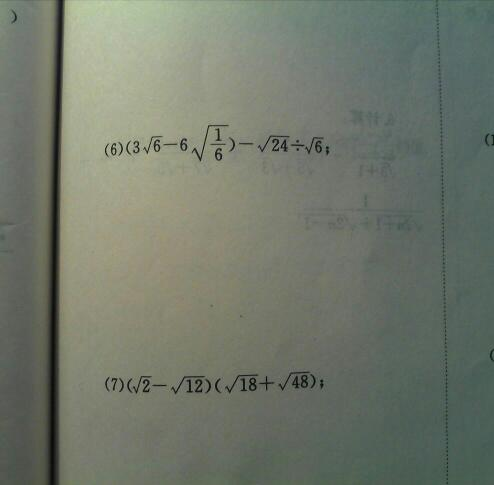division: (208, 140, 228, 150)
sqrt: (191, 121, 235, 164), (223, 373, 263, 396), (277, 370, 310, 395), (169, 373, 204, 396), (257, 133, 290, 156), (305, 132, 323, 162), (144, 133, 167, 155), (133, 373, 151, 394)
